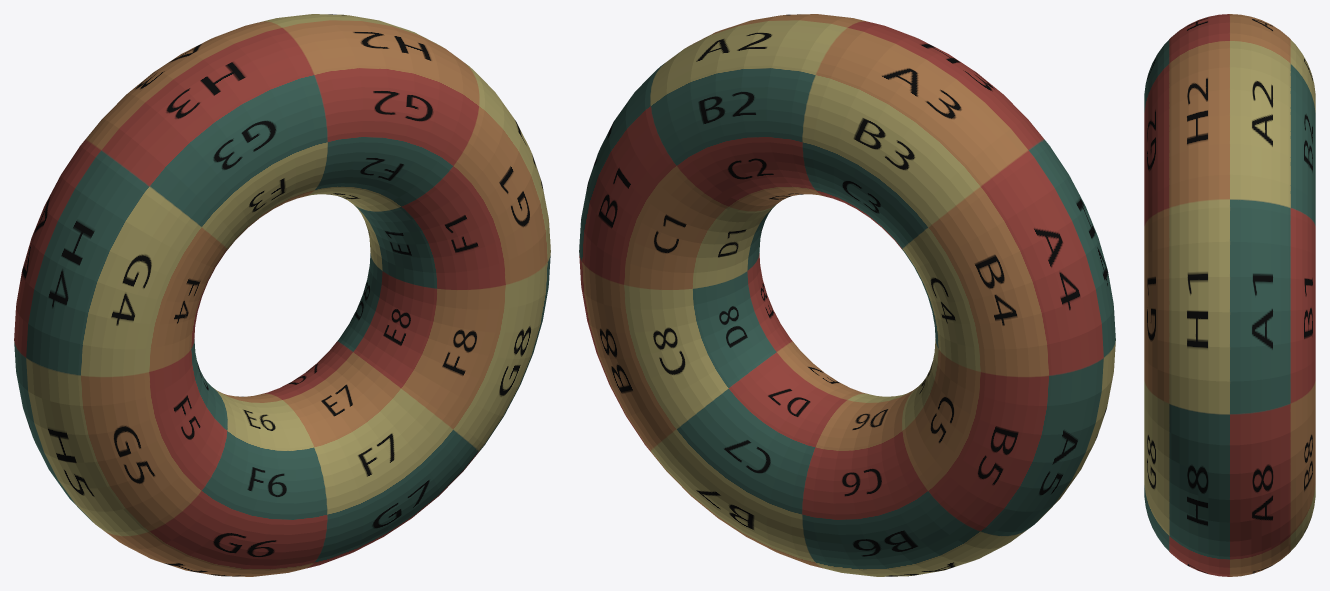
File: texture_torus_R11_r21.glb
3 renders of one model, left to right at view 1: azimuth 30°, elevation 25°; view 2: azimuth 150°, elevation 25°; view 3: azimuth 270°, elevation 25°, orthographic. The views are drawn at different scales.
Visible parts, largest first — view 1: world; view 2: world; view 3: world.
Part boxes in pixels (left/top/right/bottom): world: left=14, top=14, right=550, bottom=576; world: left=579, top=14, right=1115, bottom=576; world: left=1144, top=14, right=1315, bottom=576.
Bounding box in the file's own units: 24.93 × 24.88 × 7.59.
Materials: 1 (1 with a texture image).
